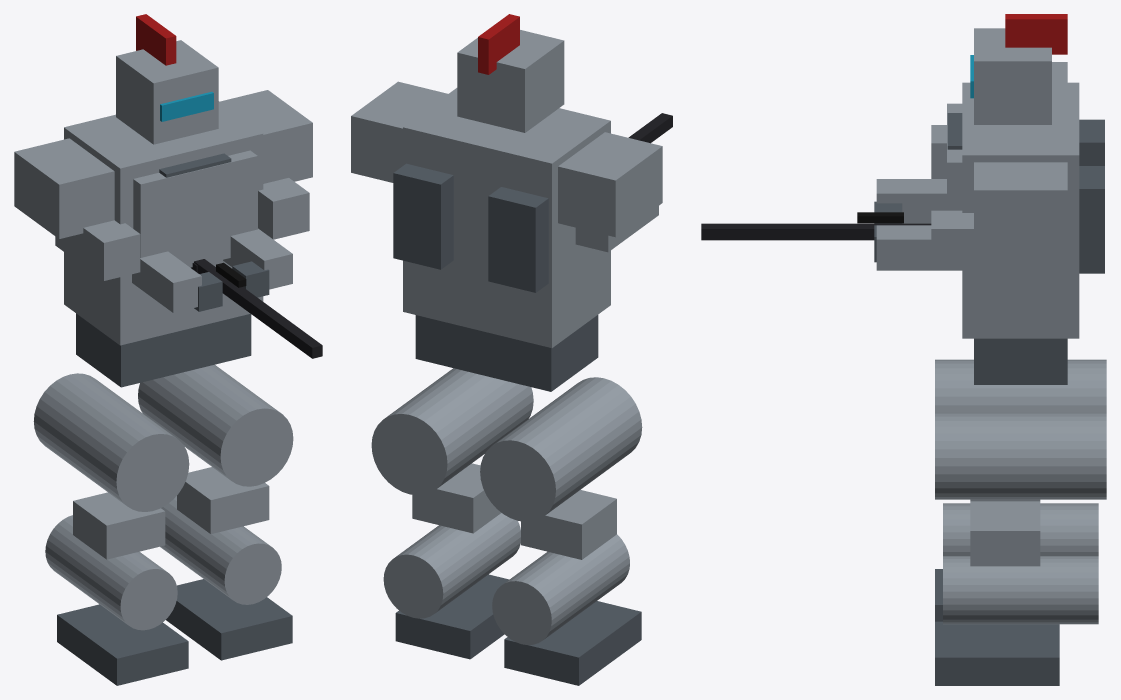
The model's file is mecha_armored_core_gun_idle.obj.
3 renders of one model, left to right at view 1: azimuth 30°, elevation 25°; view 2: azimuth 150°, elevation 25°; view 3: azimuth 270°, elevation 25°, orthographic. The views are drawn at different scales.
Size of the model in its own units: 1.95 by 4.42 by 2.6.
